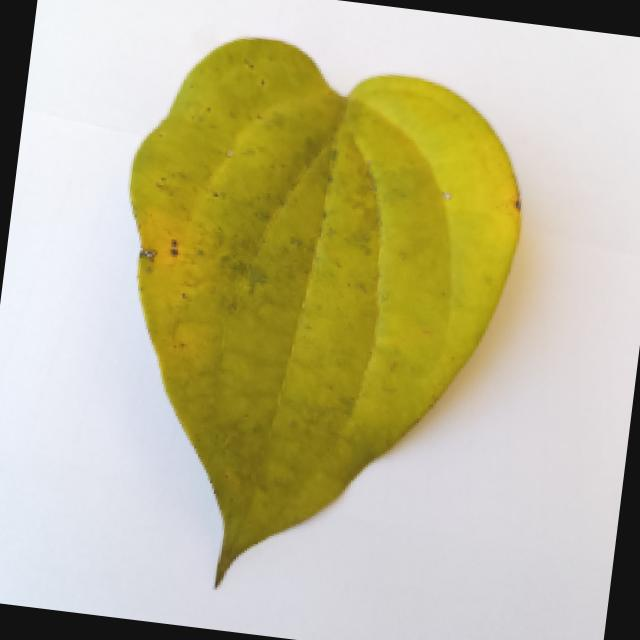slow-decline: (45, 28, 568, 627)
